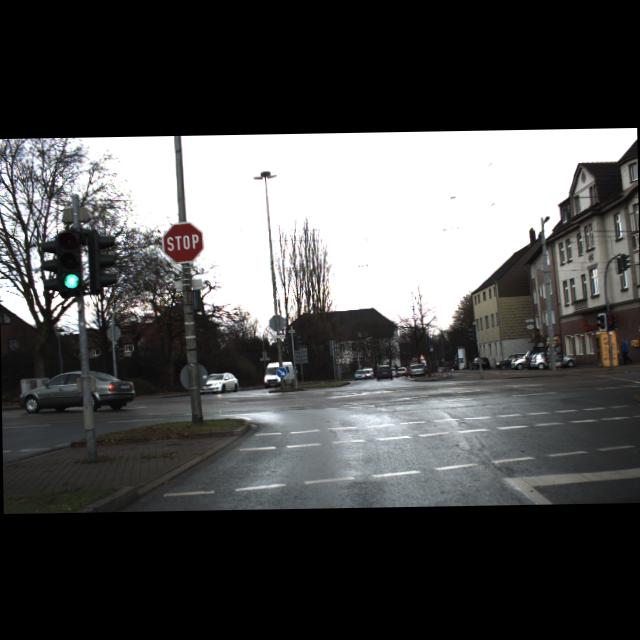mandatory: (276, 366, 286, 377)
other: (160, 220, 203, 263)
